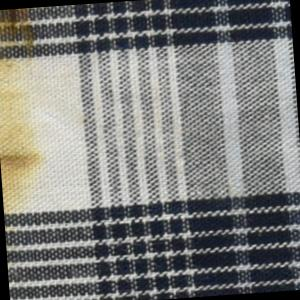Oil Stain: (1, 9, 55, 254)
